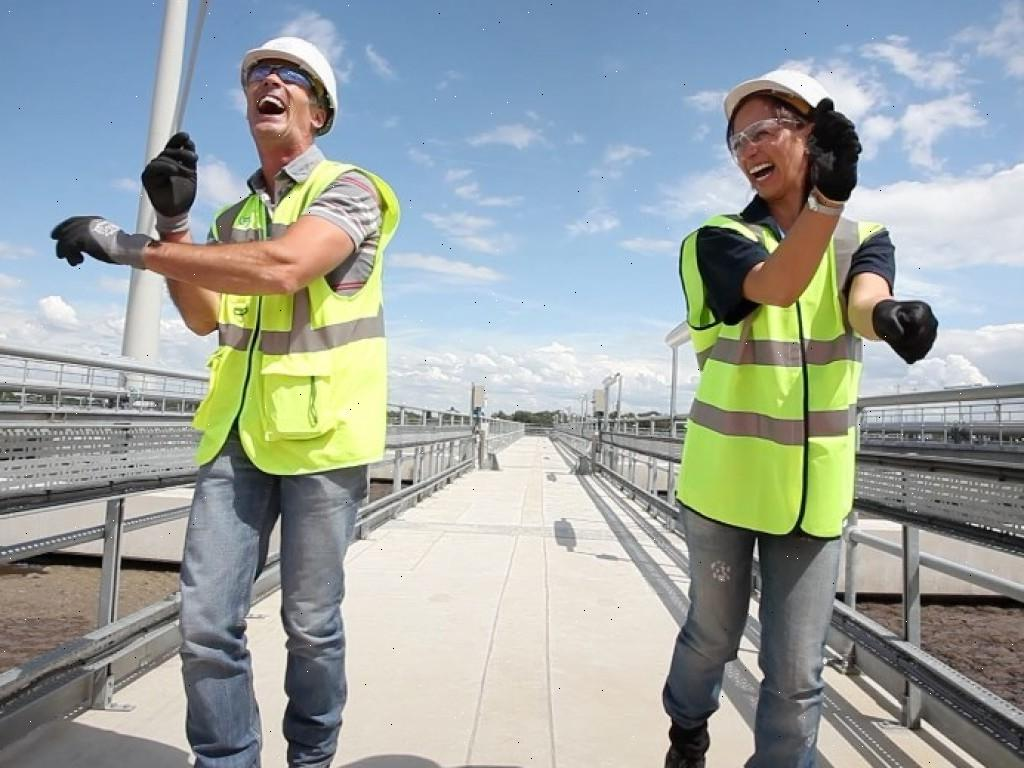helmet: (238, 36, 340, 142), (720, 66, 833, 126)
wear: (675, 210, 885, 534), (196, 159, 393, 475)
